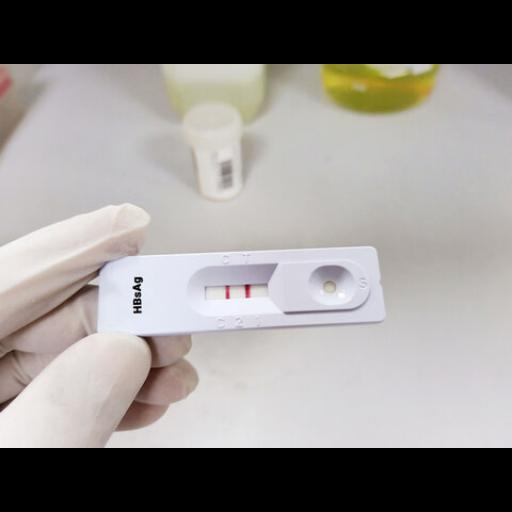Pos: (97, 244, 386, 336)
